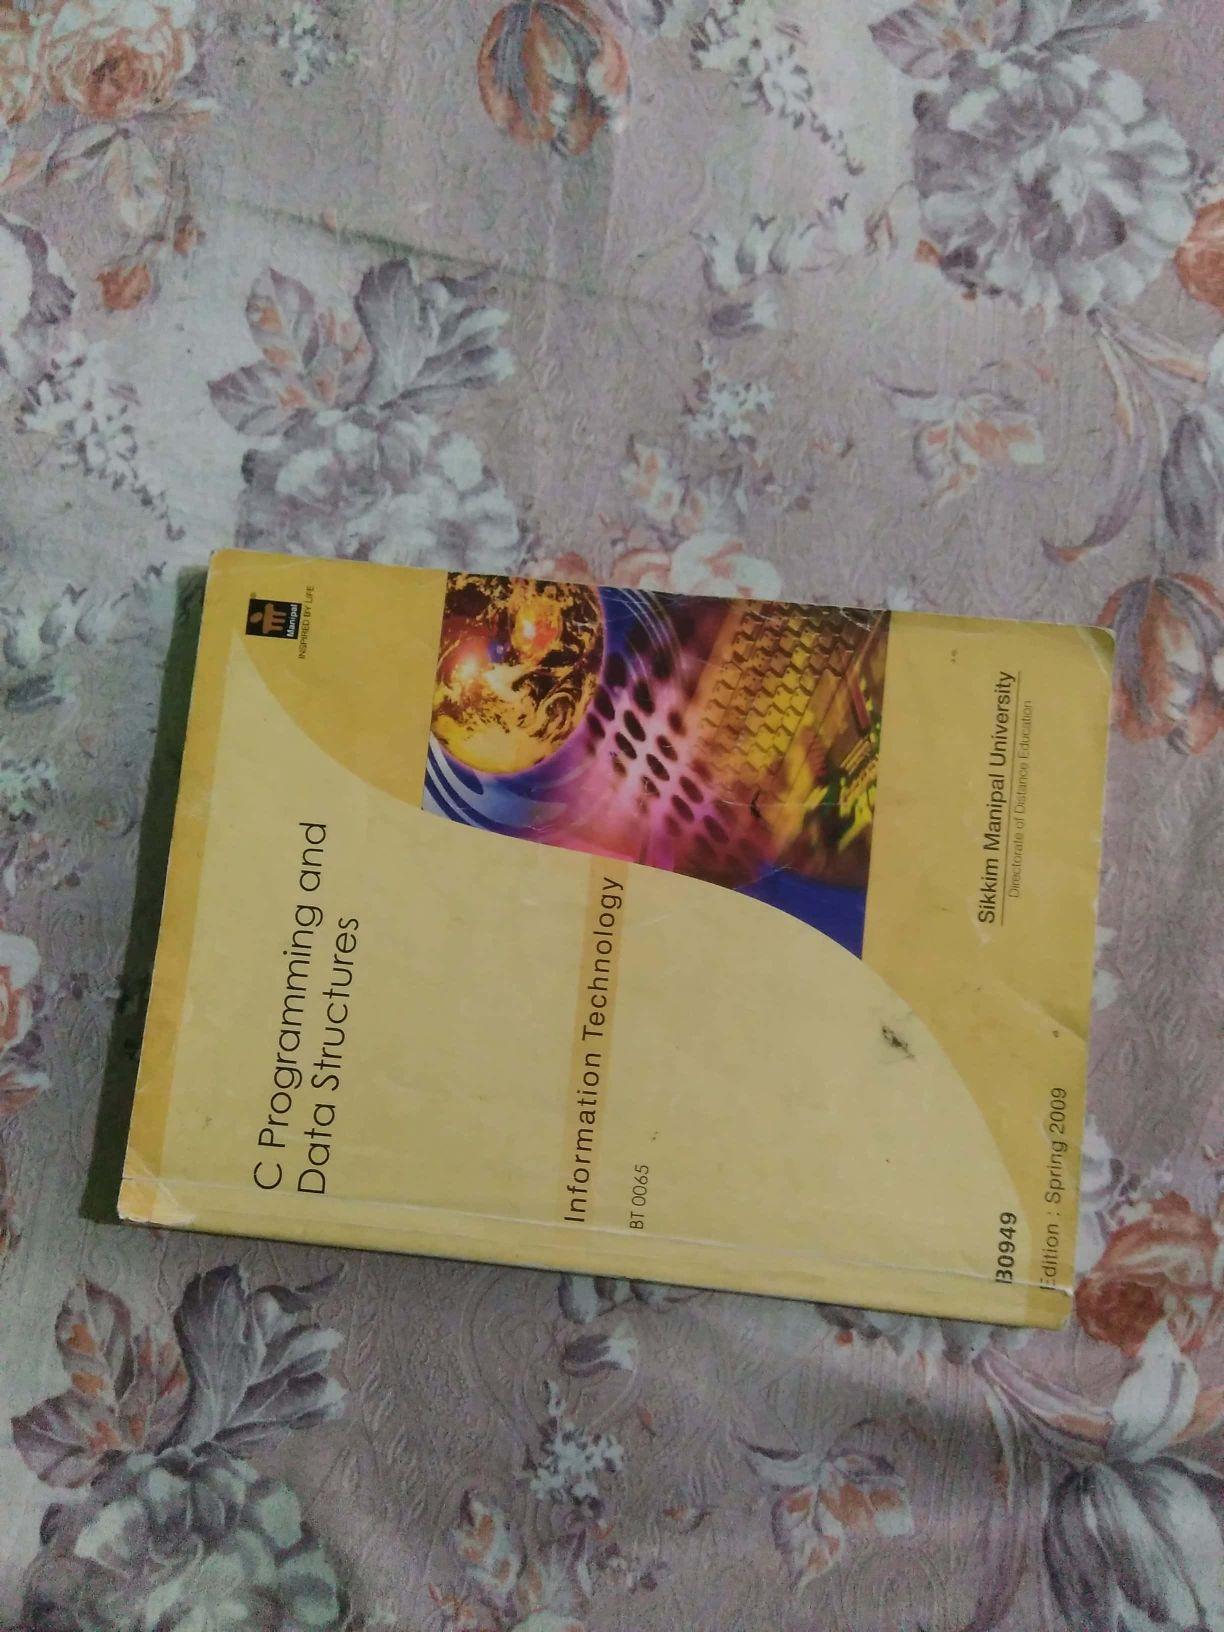clang: (114, 549, 1146, 1343)
